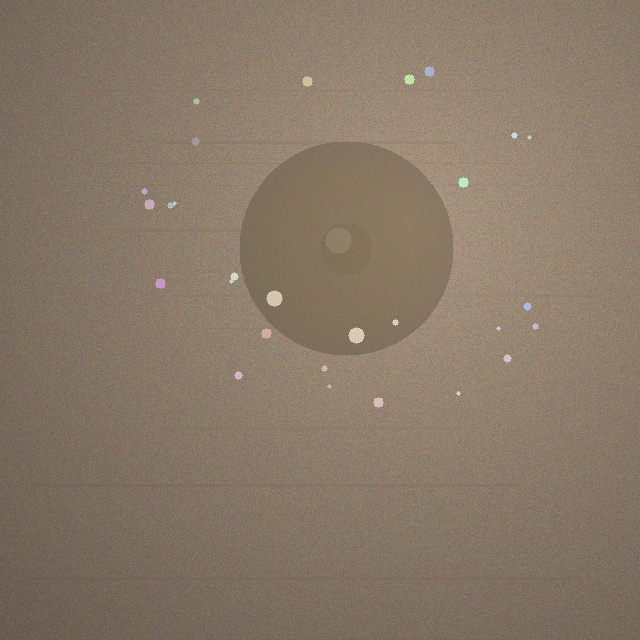overburn: (239, 141, 453, 355)
